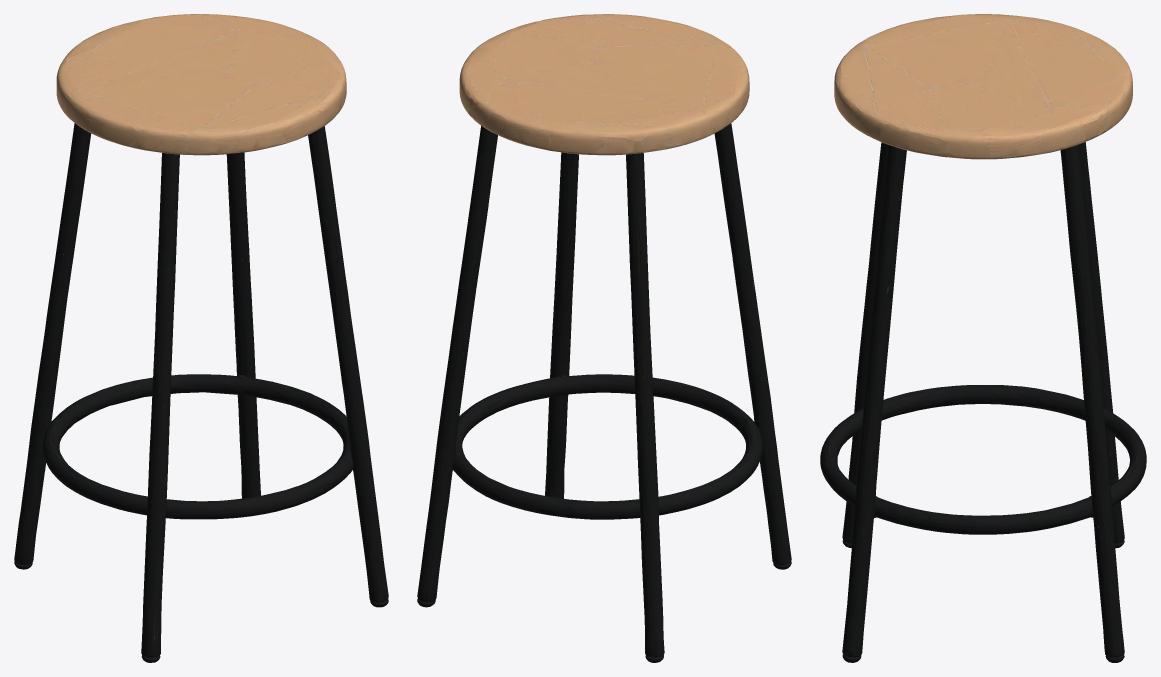
The model's file is shop_stool.glb.
3 renders of one model, left to right at view 1: azimuth 30°, elevation 25°; view 2: azimuth 150°, elevation 25°; view 3: azimuth 270°, elevation 25°, orthographic. The views are drawn at different scales.
Visible parts, largest first — view 1: 0; view 2: 0; view 3: 0.
Part boxes in pixels (x1,y1,x2,y2): 0: (14,14,388,662); 0: (417,14,791,662); 0: (820,14,1146,662).
Size of the model in its own units: 0.42 by 0.75 by 0.42.
Materials: 1 (1 with a texture image).
